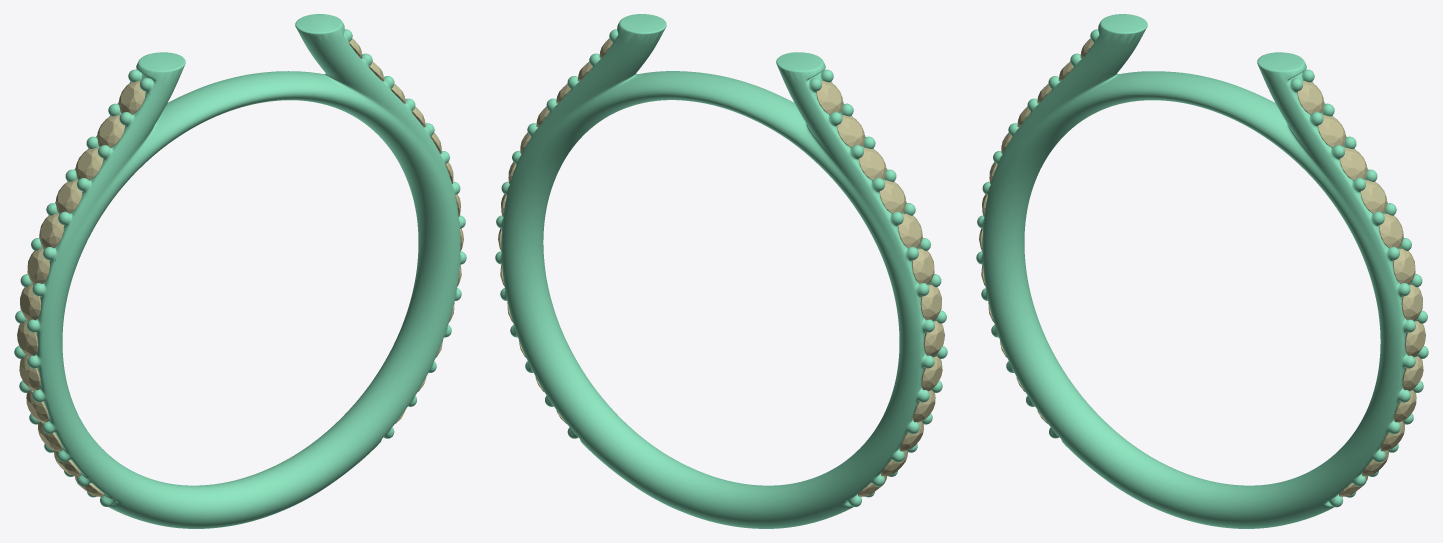
3 renders of one model, left to right at view 1: azimuth 30°, elevation 25°; view 2: azimuth 150°, elevation 25°; view 3: azimuth 330°, elevation 25°, orthographic.
Parts seen in each view (by area): view 1: Metal02, Diamond_Gem.011, Diamond_Gem.007, Diamond_Gem.005, Diamond_Gem.006, Diamond_Gem.012, Diamond_Gem.008, Diamond_Gem.009, Diamond_Gem.010; view 2: Metal02, Diamond_Gem.011, Diamond_Gem.007, Diamond_Gem.005, Diamond_Gem.012, Diamond_Gem.006, Diamond_Gem.008, Diamond_Gem.009, Diamond_Gem.010; view 3: Metal02, Diamond_Gem.014, Diamond_Gem.018, Diamond_Gem.020, Diamond_Gem.019, Diamond_Gem.013, Diamond_Gem.017, Diamond_Gem.016, Diamond_Gem.015.
Part boxes in pixels (bbox=[...]): Metal02: bbox=[14, 14, 466, 528]; Diamond_Gem.011: bbox=[55, 180, 82, 213]; Diamond_Gem.007: bbox=[75, 147, 103, 180]; Diamond_Gem.005: bbox=[118, 81, 145, 114]; Diamond_Gem.006: bbox=[96, 115, 124, 147]; Diamond_Gem.012: bbox=[39, 213, 63, 248]; Diamond_Gem.008: bbox=[27, 248, 49, 284]; Diamond_Gem.009: bbox=[20, 284, 41, 320]; Diamond_Gem.010: bbox=[17, 321, 38, 356]; Metal02: bbox=[495, 14, 947, 528]; Diamond_Gem.011: bbox=[879, 180, 906, 213]; Diamond_Gem.007: bbox=[858, 147, 886, 180]; Diamond_Gem.005: bbox=[816, 81, 843, 114]; Diamond_Gem.012: bbox=[898, 213, 922, 248]; Diamond_Gem.006: bbox=[837, 115, 865, 147]; Diamond_Gem.008: bbox=[912, 248, 934, 284]; Diamond_Gem.009: bbox=[920, 284, 941, 320]; Diamond_Gem.010: bbox=[923, 321, 944, 356]; Metal02: bbox=[976, 14, 1428, 528]; Diamond_Gem.014: bbox=[1360, 180, 1387, 213]; Diamond_Gem.018: bbox=[1339, 147, 1367, 180]; Diamond_Gem.020: bbox=[1297, 81, 1324, 114]; Diamond_Gem.019: bbox=[1318, 115, 1346, 147]; Diamond_Gem.013: bbox=[1379, 213, 1403, 248]; Diamond_Gem.017: bbox=[1393, 248, 1415, 284]; Diamond_Gem.016: bbox=[1401, 284, 1422, 320]; Diamond_Gem.015: bbox=[1404, 321, 1425, 356].
Bounding box in the file's own units: 20.87 × 21.82 × 1.99.
